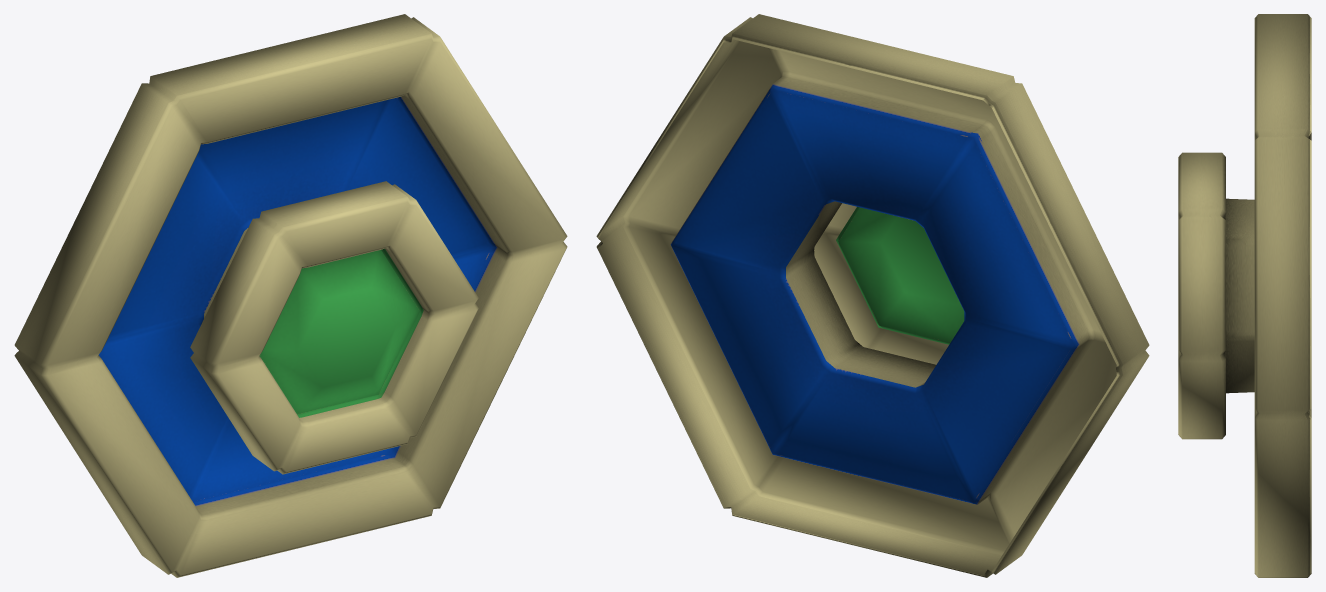
The model's file is fountain.fbx.
3 views of the same model, side by side, from view 1: azimuth 30°, elevation 25°; view 2: azimuth 150°, elevation 25°; view 3: azimuth 270°, elevation 25° (orthographic). The views are drawn at different scales.
Visible parts, largest first — view 1: fountain; view 2: fountain; view 3: fountain.
Boxes of the visible parts, x1,y1,x2,y2 form: fountain: (14,14,567,577); fountain: (596,14,1149,577); fountain: (1178,14,1311,577).
Size of the model in its own units: 59360 by 51962 by 14014.
